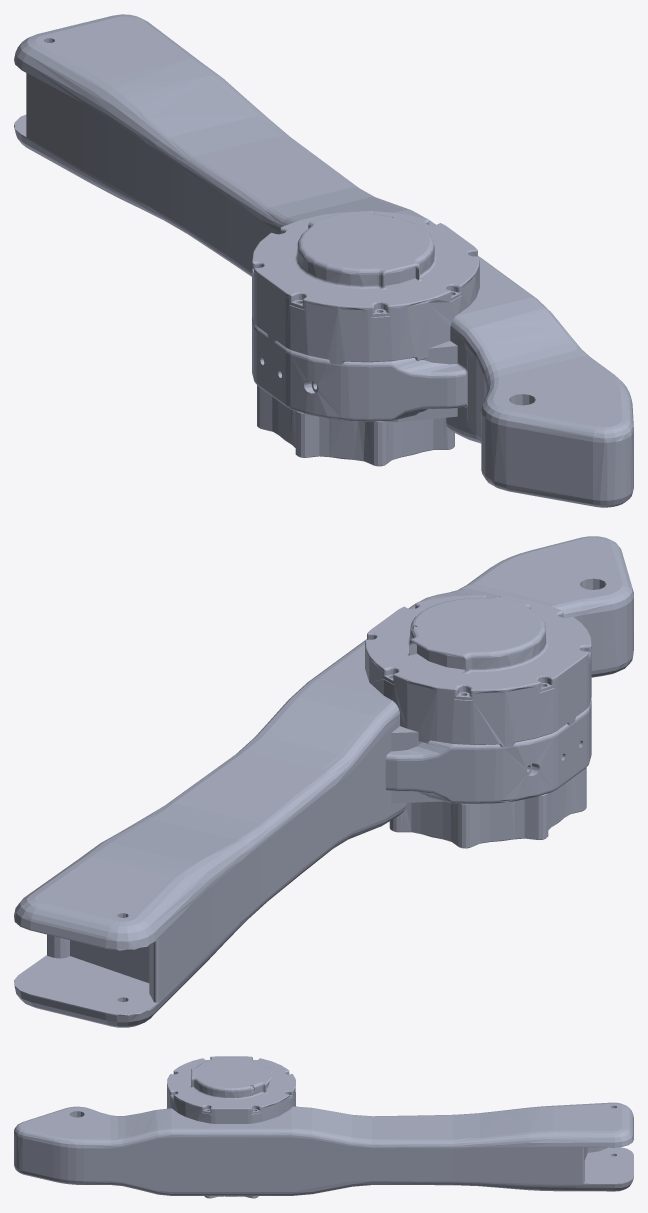
File: right_knee_link.obj
The picture shows the model from 3 angles, top to bottom: view 1: azimuth 30°, elevation 25°; view 2: azimuth 150°, elevation 25°; view 3: azimuth 270°, elevation 25°; orthographic projection. The views are drawn at different scales.
Visible parts, largest first — view 1: right_knee_link-mesh; view 2: right_knee_link-mesh; view 3: right_knee_link-mesh.
Part boxes in pixels (box(x1,y1,x2,y2)): right_knee_link-mesh: box(14, 14, 633, 507); right_knee_link-mesh: box(14, 536, 633, 1027); right_knee_link-mesh: box(14, 1056, 633, 1198).
Size of the model in its own units: 0.1072 by 0.0835 by 0.4621.
